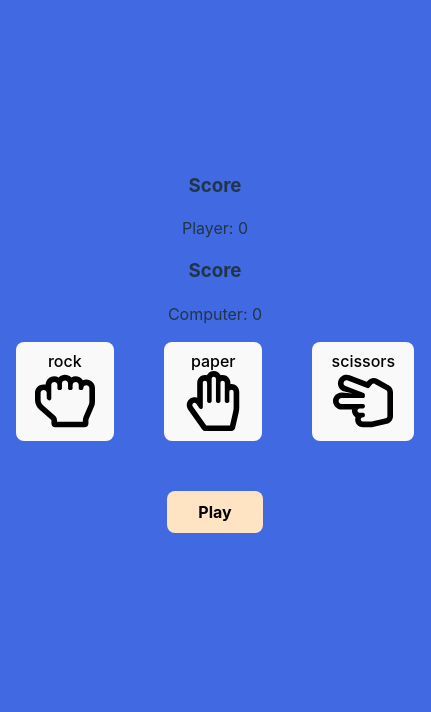
ScoreAndResults › should display the Computer winner message on the page
The image size is (431, 712).
Click the button "scissors" at (363, 391), box x1=312 y1=342 x2=414 y2=441
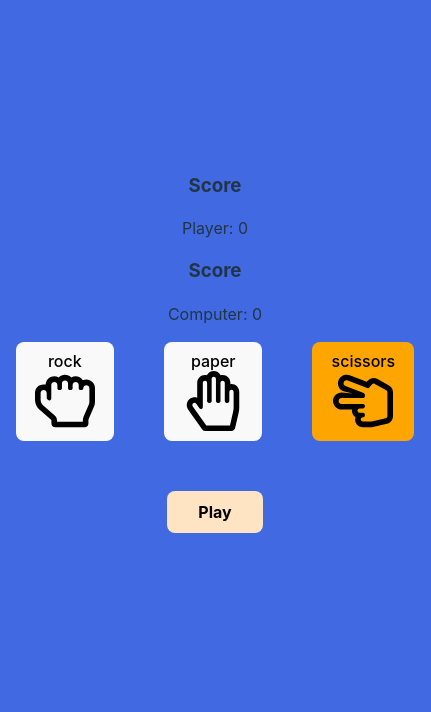
Click the button "Play" at (215, 512), box x1=167 y1=491 x2=263 y2=533
Wait 3000 ms
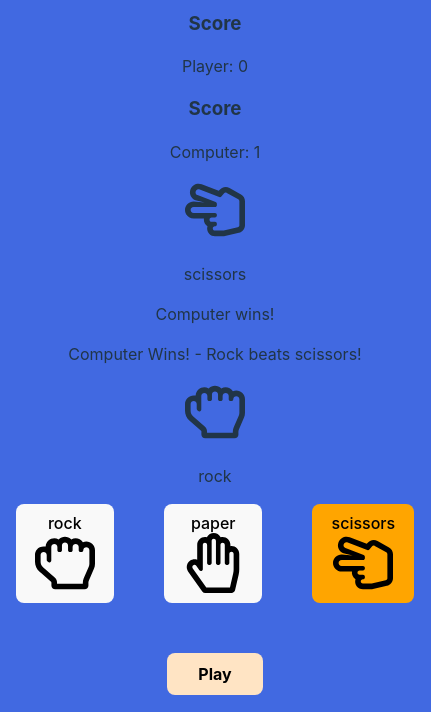
expect the text "Computer wins!" is shown: met, box x1=156 y1=304 x2=274 y2=324
expect the text "Computer Wins! - Rock beats scissors!" is shown: met, box x1=68 y1=344 x2=362 y2=364
expect the text "Computer: 1" is shown: met, box x1=170 y1=142 x2=260 y2=162
